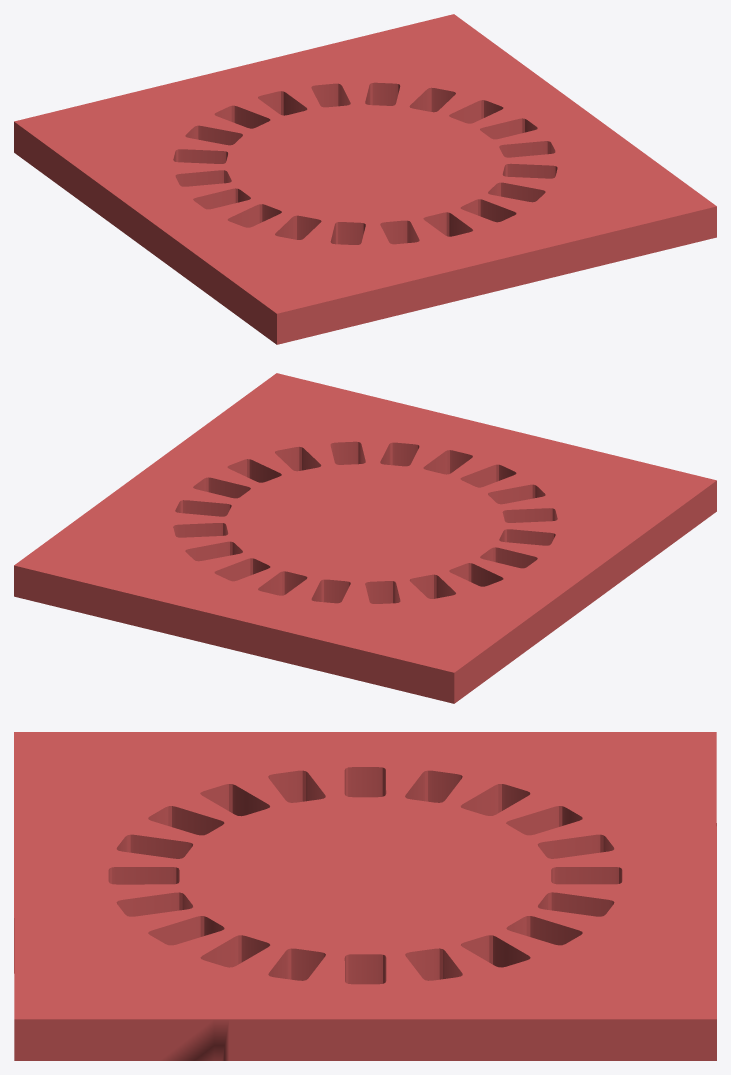
Rendered from Menu_Rotating_Wheel.FBX.
3 renders of one model, top to bottom at view 1: azimuth 30°, elevation 25°; view 2: azimuth 150°, elevation 25°; view 3: azimuth 270°, elevation 25°, orthographic. The views are drawn at different scales.
Visible parts, largest first — view 1: Box019; view 2: Box019; view 3: Box019.
Part boxes in pixels (x1,y1,x2,y2): Box019: [14, 14, 716, 344]; Box019: [14, 373, 716, 703]; Box019: [14, 732, 716, 1060].
Size of the model in its own units: 11473 by 775 by 11865.
